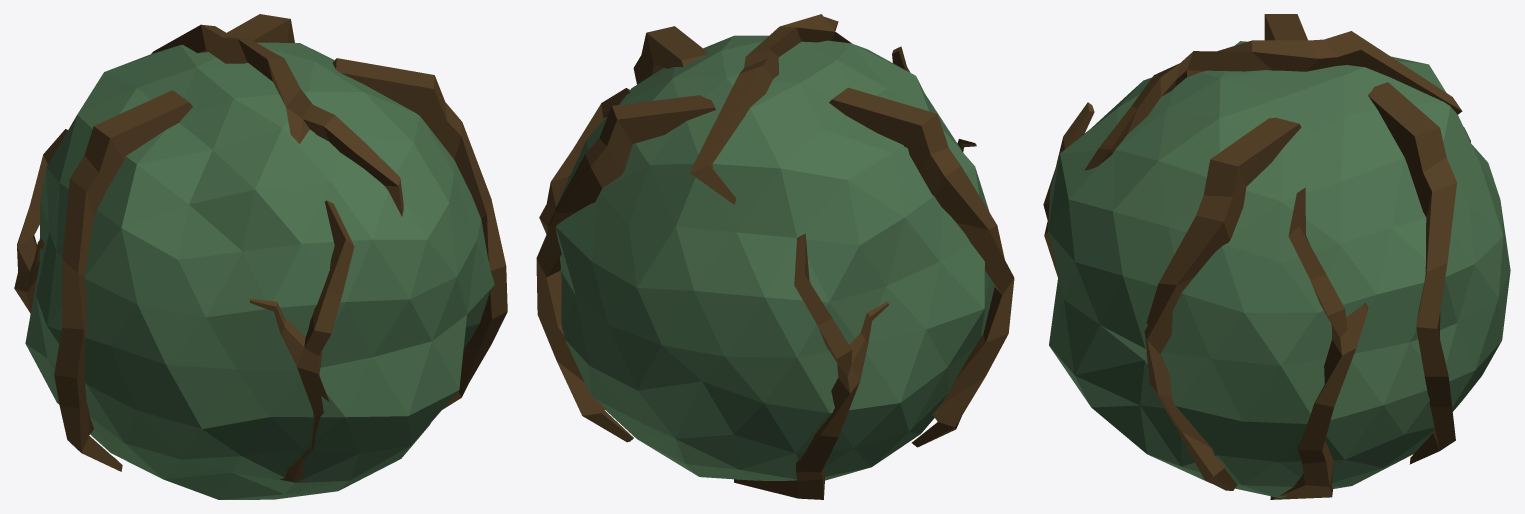
Rendered from Items_Swamp_Ball.fbx.
The picture shows the model from 3 angles, left to right: view 1: azimuth 30°, elevation 25°; view 2: azimuth 150°, elevation 25°; view 3: azimuth 270°, elevation 25°; orthographic projection. The views are drawn at different scales.
Visible parts, largest first — view 1: Swamp Ball; view 2: Swamp Ball; view 3: Swamp Ball.
Part boxes in pixels (<box>): Swamp Ball: <box>14,14,507,499</box>; Swamp Ball: <box>536,14,1014,499</box>; Swamp Ball: <box>1043,14,1510,499</box>.
Bounding box in the file's own units: 322 × 312 × 306.
